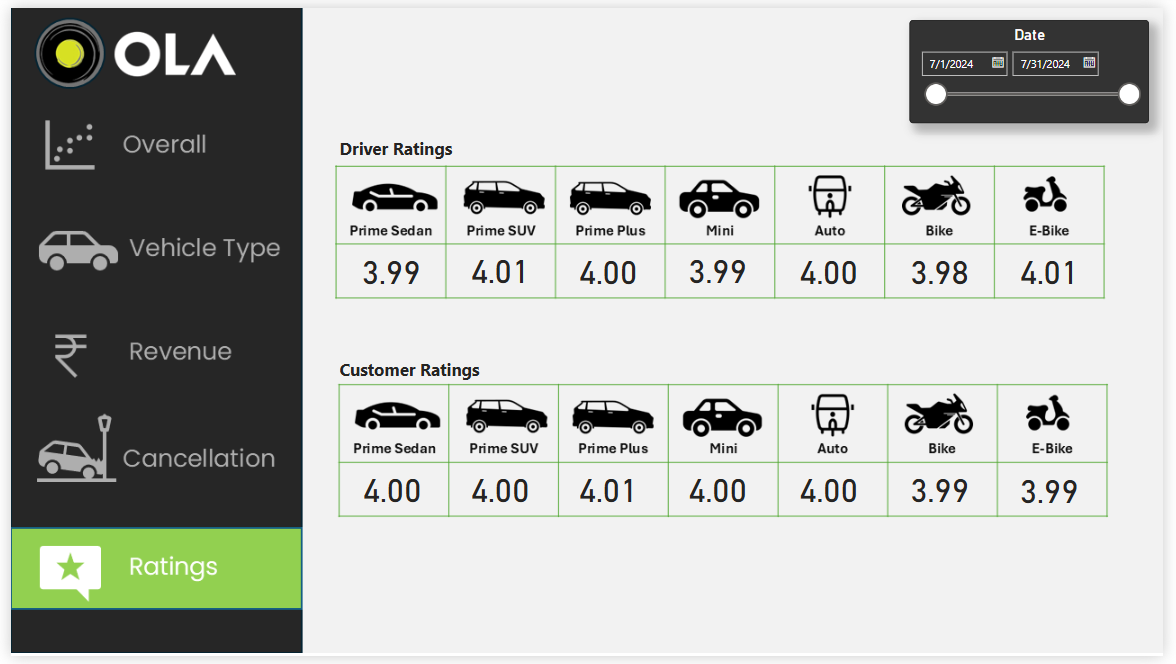

What the dashboard file says about the page in this screenshot:
{"tool":"powerbi","page":{"name":"Ratings","canvas":[1280,720],"ordinal":4},"visuals":[{"type":"actionButton","box":[0,222.7,324.5,89.1],"z":0},{"type":"actionButton","box":[0,338.8,324.5,89.1],"z":1000},{"type":"actionButton","box":[0,111.3,324.5,89.1],"z":2000},{"type":"actionButton","box":[0,445.4,324.5,97],"z":3000},{"type":"card","fields":{"Values":["Avg(July.Driver_Ratings)"]},"box":[368.1,256,107.7,68.1],"z":4000},{"type":"card","fields":{"Values":["Avg(July.Driver_Ratings)"]},"box":[490,255,106.7,68.3],"z":5000},{"type":"card","fields":{"Values":["Avg(July.Driver_Ratings)"]},"box":[610,256.7,106.7,68.3],"z":6000},{"type":"card","fields":{"Values":["Avg(July.Driver_Ratings)"]},"box":[731.7,255,106.7,68.3],"z":7000},{"type":"card","fields":{"Values":["Avg(July.Driver_Ratings)"]},"box":[855,256.7,106.7,68.3],"z":8000},{"type":"card","fields":{"Values":["Avg(July.Driver_Ratings)"]},"box":[978.3,256.7,106.7,68.3],"z":9000},{"type":"card","fields":{"Values":["Avg(July.Driver_Ratings)"]},"box":[1100,256.7,106.7,68.3],"z":10000},{"type":"card","fields":{"Values":["Avg(July.Customer_Rating)"]},"box":[370,493.3,106.7,78.3],"z":11000},{"type":"card","fields":{"Values":["Avg(July.Customer_Rating)"]},"box":[490,493.3,106.7,78.3],"z":12000},{"type":"card","fields":{"Values":["Avg(July.Customer_Rating)"]},"box":[610,493.3,106.7,78.3],"z":13000},{"type":"card","fields":{"Values":["Avg(July.Customer_Rating)"]},"box":[731.7,493.3,106.7,78.3],"z":14000},{"type":"card","fields":{"Values":["Avg(July.Customer_Rating)"]},"box":[855,493.3,106.7,78.3],"z":15000},{"type":"card","fields":{"Values":["Avg(July.Customer_Rating)"]},"box":[978.3,493.3,106.7,78.3],"z":16000},{"type":"card","fields":{"Values":["Avg(July.Customer_Rating)"]},"box":[1100,495,106.7,78.3],"z":17000},{"type":"textbox","box":[360.4,137.8,149.5,36],"z":18000},{"type":"textbox","box":[360,383.8,206.2,37.5],"z":18001},{"type":"slicer","title":"Date","fields":{"Values":["July.Date"]},"box":[997.8,12.7,265.8,114.6],"z":18002}]}

Visuals, with their boxes in screenshot pixels (x1, y1, x2, y2), scaled from the page's 1280x720 canvas onto the 1176x664 screenshot:
actionButton: x1=0, y1=205, x2=298, y2=288
actionButton: x1=0, y1=312, x2=298, y2=395
actionButton: x1=0, y1=103, x2=298, y2=185
actionButton: x1=0, y1=411, x2=298, y2=500
card - Avg(July.Driver_Ratings): x1=338, y1=236, x2=437, y2=299
card - Avg(July.Driver_Ratings): x1=450, y1=235, x2=548, y2=298
card - Avg(July.Driver_Ratings): x1=560, y1=237, x2=658, y2=300
card - Avg(July.Driver_Ratings): x1=672, y1=235, x2=770, y2=298
card - Avg(July.Driver_Ratings): x1=786, y1=237, x2=884, y2=300
card - Avg(July.Driver_Ratings): x1=899, y1=237, x2=997, y2=300
card - Avg(July.Driver_Ratings): x1=1011, y1=237, x2=1109, y2=300
card - Avg(July.Customer_Rating): x1=340, y1=455, x2=438, y2=527
card - Avg(July.Customer_Rating): x1=450, y1=455, x2=548, y2=527
card - Avg(July.Customer_Rating): x1=560, y1=455, x2=658, y2=527
card - Avg(July.Customer_Rating): x1=672, y1=455, x2=770, y2=527
card - Avg(July.Customer_Rating): x1=786, y1=455, x2=884, y2=527
card - Avg(July.Customer_Rating): x1=899, y1=455, x2=997, y2=527
card - Avg(July.Customer_Rating): x1=1011, y1=456, x2=1109, y2=529
textbox: x1=331, y1=127, x2=468, y2=160
textbox: x1=331, y1=354, x2=520, y2=389
"Date" slicer: x1=917, y1=12, x2=1161, y2=117
